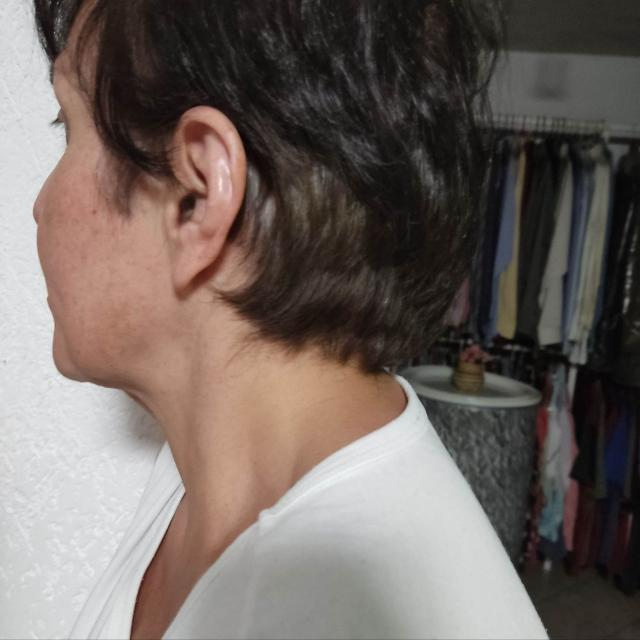ear: (165, 106, 246, 291)
